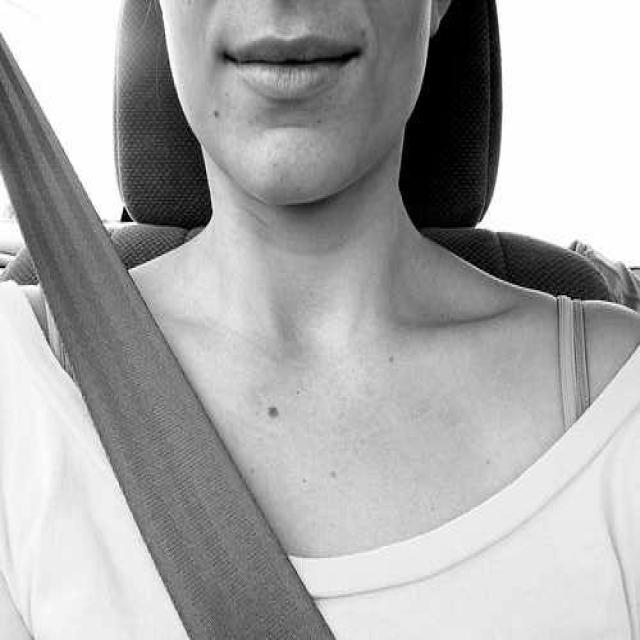Seatbelt: (9, 121, 339, 639)
